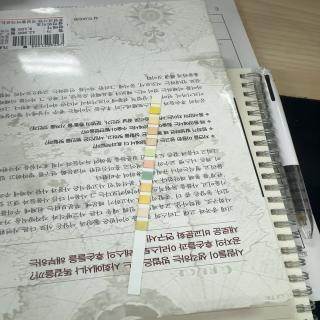mark: (138, 208, 148, 217), (137, 221, 147, 230), (146, 138, 156, 146), (144, 160, 154, 168), (142, 172, 152, 180), (141, 184, 151, 192), (150, 107, 160, 114), (145, 149, 155, 156), (140, 196, 150, 203), (152, 98, 162, 104), (149, 118, 159, 124), (148, 128, 158, 134)
